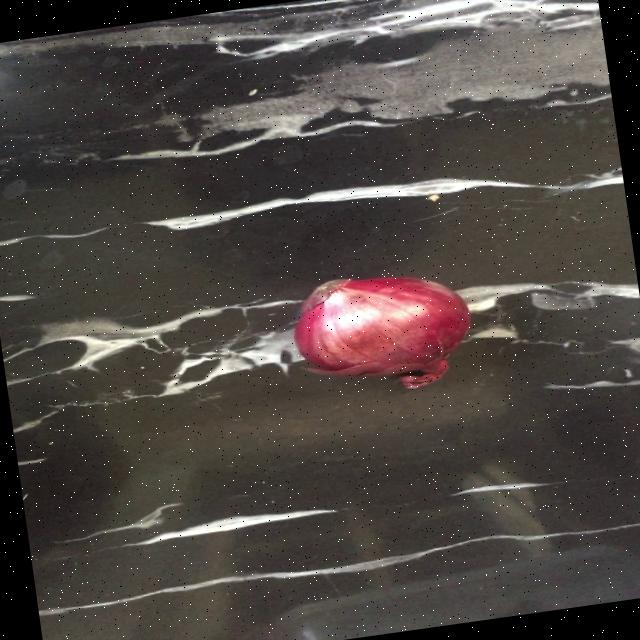Onion: (292, 275, 469, 387)
